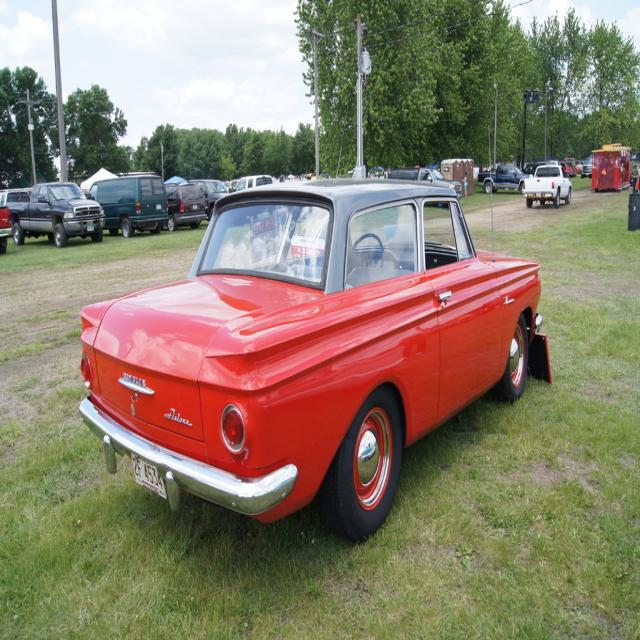car: (73, 176, 543, 548)
